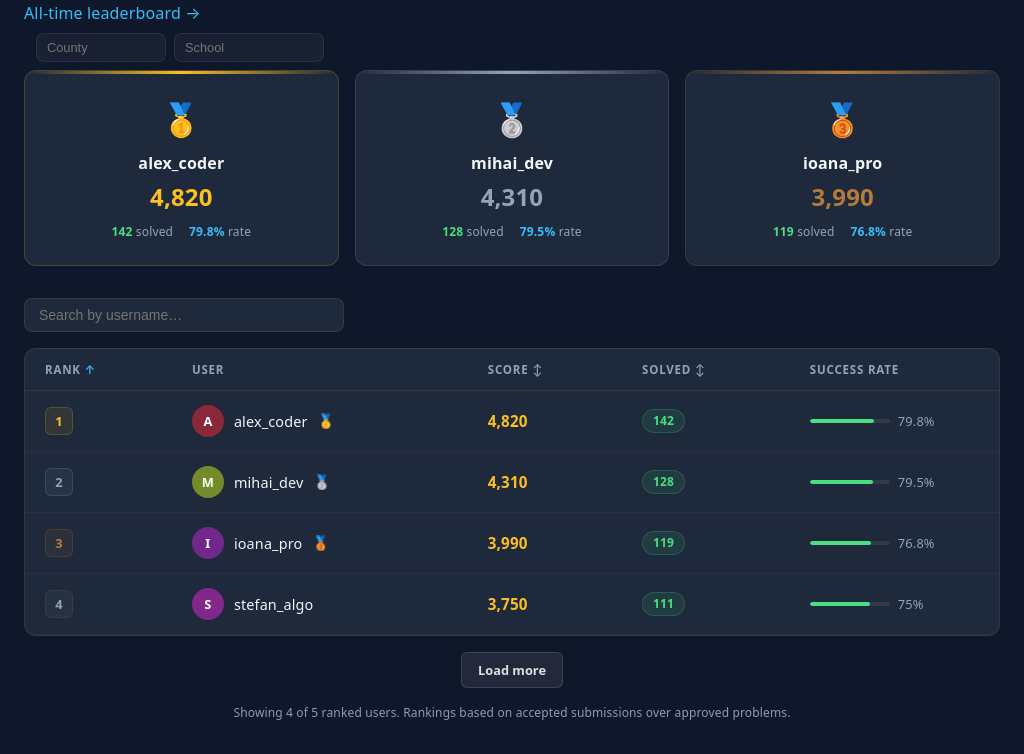
it: LeaderboardPage (live standings) › follows the next link when Load more is clicked
This screenshot has width=1024, height=754.
(page scrolled)
Expected: the 1st text "alex_coder" is shown, [138,152,224,174]
Click the button "Load more": (512, 670) [461,652,563,688]
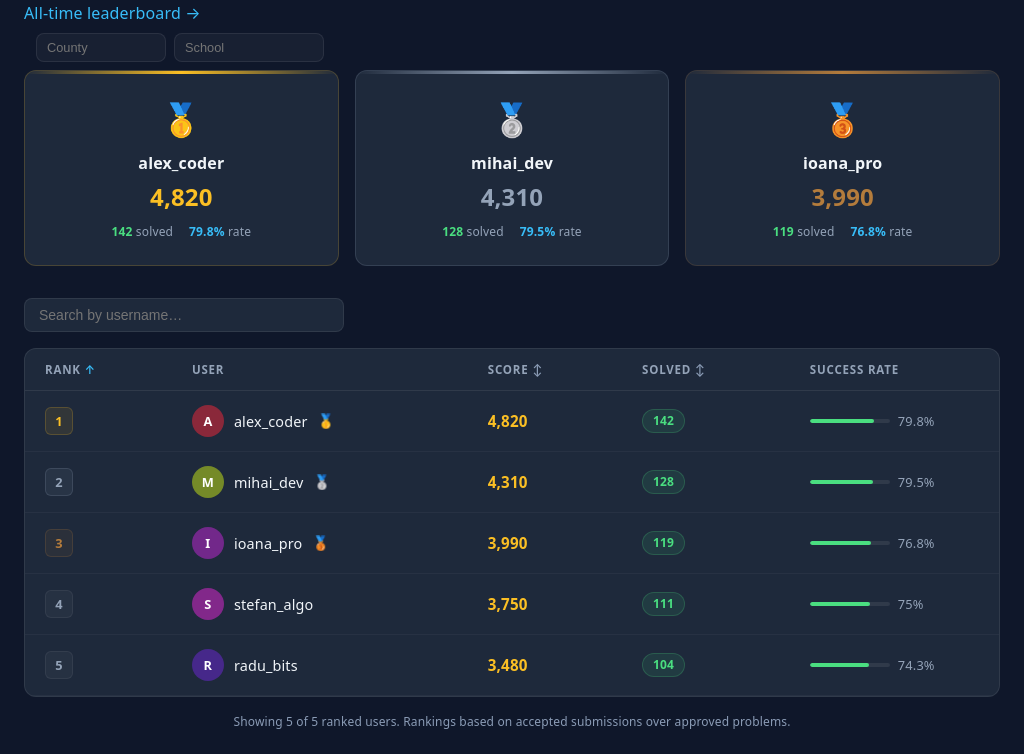
Result: the text "radu_bits" is shown at [234,654,298,676]
Result: the text "Showing 5 of 5 ranked users" is shown at [233,713,400,730]
